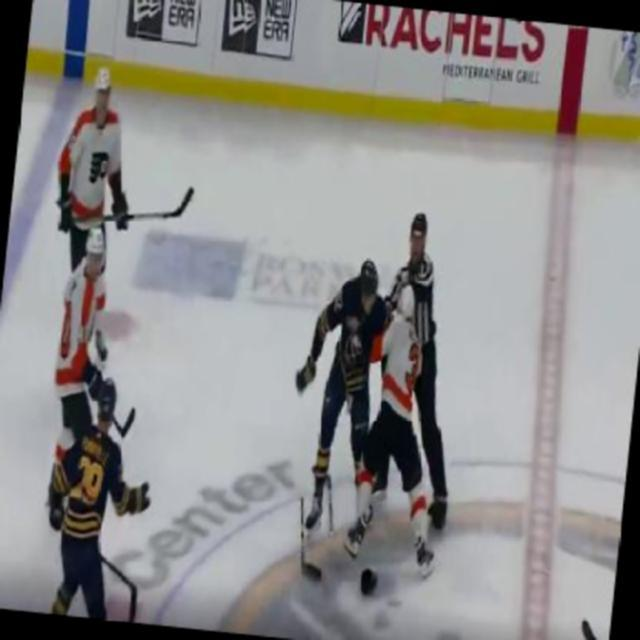fight: (277, 194, 471, 550)
non-fight: (36, 368, 146, 620), (38, 221, 111, 521), (43, 61, 140, 286)
